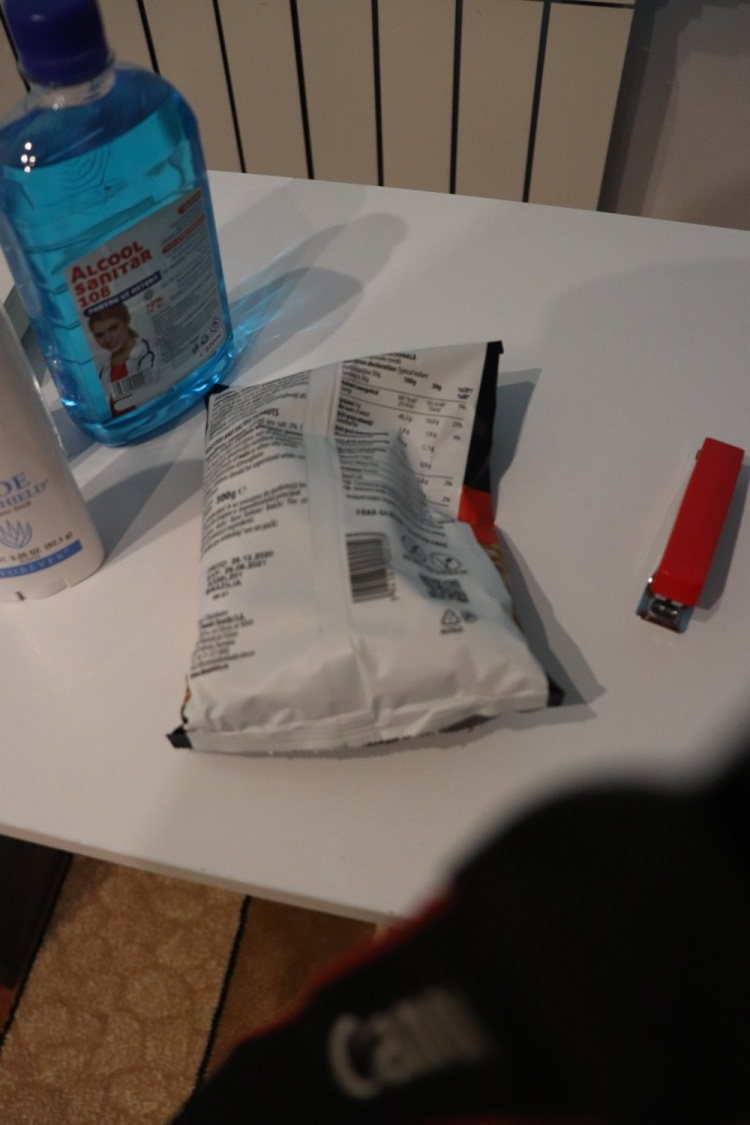peanuts: (169, 333, 574, 782)
